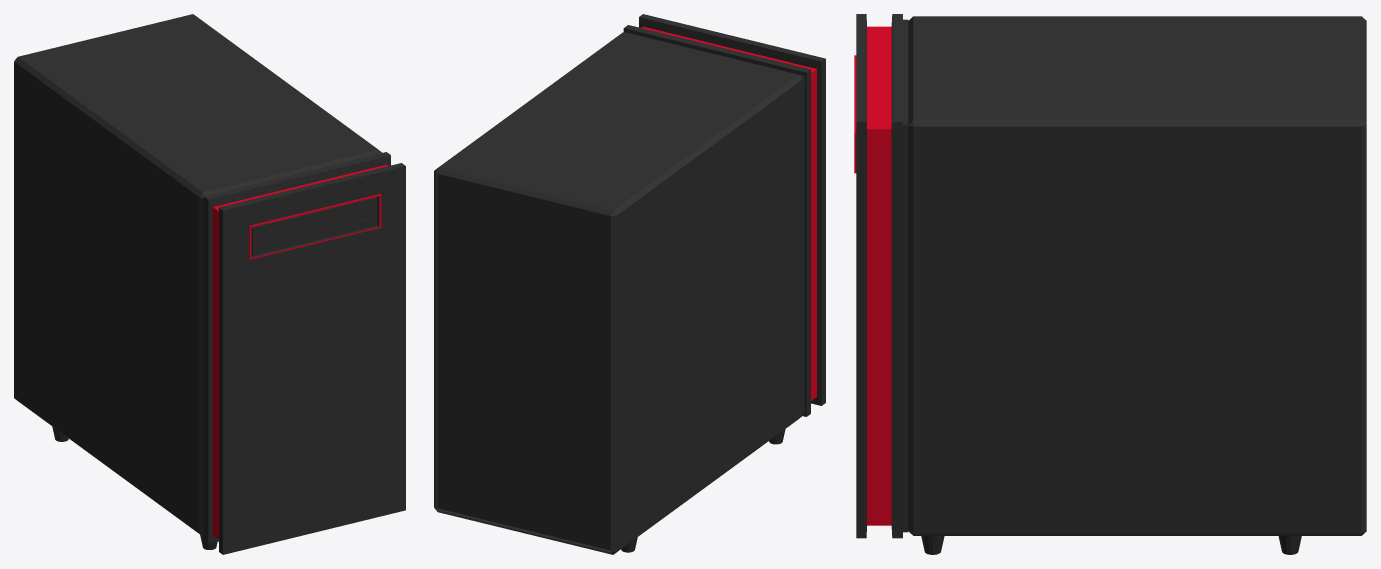
File: TowerPc.glb
3 renders of one model, left to right at view 1: azimuth 30°, elevation 25°; view 2: azimuth 150°, elevation 25°; view 3: azimuth 270°, elevation 25°, orthographic. The views are drawn at different scales.
Parts seen in each view (by area): view 1: TowerPc; view 2: TowerPc; view 3: TowerPc, Legs.
Boxes of the visible parts, <box> form: TowerPc: <box>14,14,405,554</box>; TowerPc: <box>434,14,825,554</box>; TowerPc: <box>854,14,1366,538</box>; Legs: <box>921,536,1301,554</box>.
Size of what is drawn, in the model's own units: 0.2 by 0.3808 by 0.4016.
